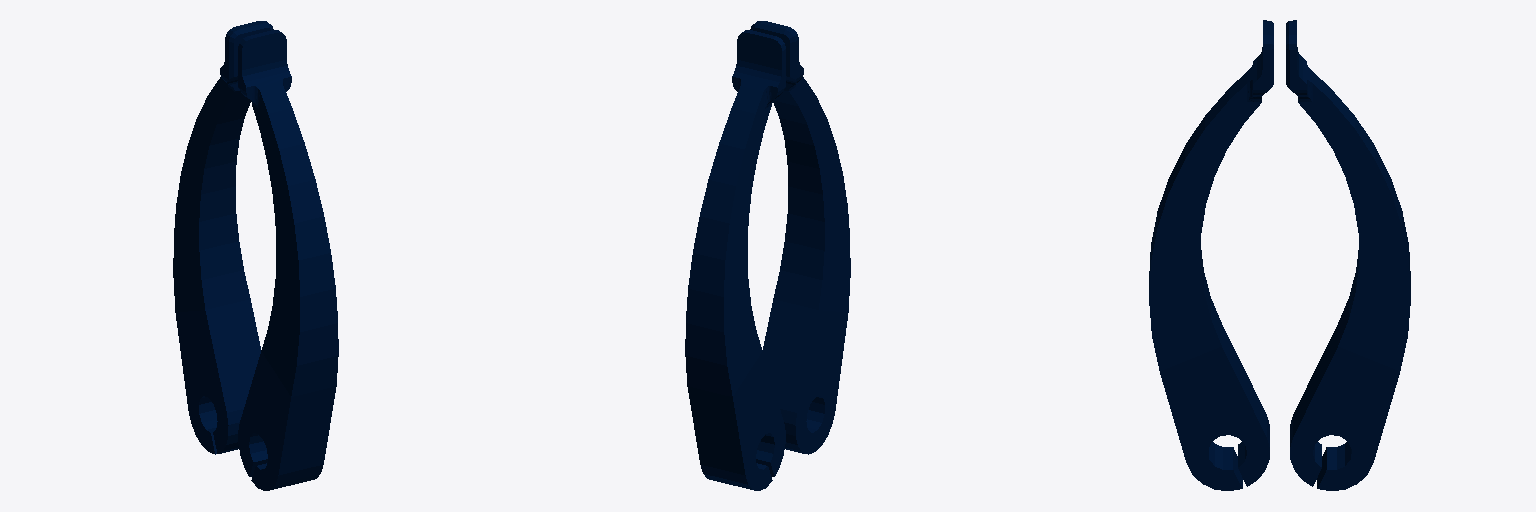
URDF robot description (hdt_michigan):
<?xml version="1.0" ?>
<!-- =================================================================================== -->
<!-- |    This document was autogenerated by xacro from hdt_michigan.xacro             | -->
<!-- |    EDITING THIS FILE BY HAND IS NOT RECOMMENDED                                 | -->
<!-- =================================================================================== -->
<robot name="hdt_michigan">
  <!-- materials -->
  <material name="black">
    <color rgba="0.0 0.0 0.0 1.0"/>
  </material>
  <material name="grey">
    <color rgba="0.23529411764705882 0.23529411764705882 0.23529411764705882 1.0"/>
  </material>
  <material name="orange">
    <color rgba="1.0 0.5490196078431373 0.0 1.0"/>
  </material>
  <material name="maroon">
    <color rgba="0.5019607843137255 0.0 0.0 1.0"/>
  </material>
  <material name="white">
    <color rgba="1.0 1.0 1.0 1.0"/>
  </material>
  <material name="blue">
    <color rgba="0.01568627450980392 0.11764705882352941 0.25882352941176473 1.0"/>
  </material>
  <material name="maize">
    <color rgba="1.0 0.7803921568627451 0.17254901960784313 1.0"/>
  </material>
  <!-- mounting plate -->
  <gazebo reference="hdt_michigan_root">
    <selfCollide>true</selfCollide>
    <kinematic>1</kinematic>
  </gazebo>
  <gazebo reference="drive57">
    <material>Gazebo/FlatBlack</material>
    <selfCollide>true</selfCollide>
    <kinematic>1</kinematic>
  </gazebo>
  <gazebo reference="torso">
    <material>Gazebo/FlatBlack</material>
    <selfCollide>true</selfCollide>
    <kinematic>1</kinematic>
  </gazebo>
  <gazebo reference="drive42">
    <material>Gazebo/FlatBlack</material>
    <selfCollide>true</selfCollide>
    <kinematic>1</kinematic>
  </gazebo>
  <gazebo reference="leftshoulder">
    <material>Gazebo/FlatBlack</material>
    <selfCollide>true</selfCollide>
    <kinematic>1</kinematic>
  </gazebo>
  <gazebo reference="lefttube">
    <material>Gazebo/FlatBlack</material>
    <selfCollide>true</selfCollide>
    <kinematic>1</kinematic>
  </gazebo>
  <gazebo reference="leftforearm">
    <material>Gazebo/FlatBlack</material>
    <selfCollide>true</selfCollide>
    <kinematic>1</kinematic>
  </gazebo>
  <gazebo reference="drive46">
    <material>Gazebo/FlatBlack</material>
    <selfCollide>true</selfCollide>
    <kinematic>1</kinematic>
  </gazebo>
  <gazebo reference="leftwrist">
    <material>Gazebo/FlatBlack</material>
    <selfCollide>true</selfCollide>
    <kinematic>1</kinematic>
  </gazebo>
  <gazebo reference="drive50">
    <material>Gazebo/FlatBlack</material>
    <selfCollide>true</selfCollide>
    <kinematic>1</kinematic>
  </gazebo>
  <gazebo reference="leftgripper2_link">
    <material>Gazebo/FlatBlack</material>
    <selfCollide>true</selfCollide>
    <kinematic>1</kinematic>
    <maxContacts>1</maxContacts>
  </gazebo>
  <gazebo reference="leftgripper_link">
    <material>Gazebo/FlatBlack</material>
    <selfCollide>true</selfCollide>
    <kinematic>1</kinematic>
    <maxContacts>1</maxContacts>
  </gazebo>
  <gazebo reference="drive2">
    <material>Gazebo/Grey</material>
    <selfCollide>true</selfCollide>
    <kinematic>1</kinematic>
  </gazebo>
  <gazebo reference="rightshoulder">
    <material>Gazebo/FlatBlack</material>
    <selfCollide>true</selfCollide>
    <kinematic>1</kinematic>
  </gazebo>
  <gazebo reference="righttube">
    <material>Gazebo/Grey</material>
    <selfCollide>true</selfCollide>
    <kinematic>1</kinematic>
  </gazebo>
  <gazebo reference="rightforearm">
    <material>Gazebo/FlatBlack</material>
    <selfCollide>true</selfCollide>
    <kinematic>1</kinematic>
  </gazebo>
  <gazebo reference="drive6">
    <material>Gazebo/Grey</material>
    <selfCollide>true</selfCollide>
    <kinematic>1</kinematic>
  </gazebo>
  <gazebo reference="rightwrist">
    <material>Gazebo/FlatBlack</material>
    <selfCollide>true</selfCollide>
    <kinematic>1</kinematic>
  </gazebo>
  <gazebo reference="drive10">
    <material>Gazebo/Grey</material>
    <selfCollide>true</selfCollide>
    <kinematic>1</kinematic>
  </gazebo>
  <gazebo reference="rightgripper2_link">
    <material>Gazebo/Grey</material>
    <selfCollide>true</selfCollide>
    <kinematic>1</kinematic>
    <maxContacts>1</maxContacts>
  </gazebo>
  <gazebo reference="rightgripper_link">
    <material>Gazebo/Grey</material>
    <selfCollide>true</selfCollide>
    <kinematic>1</kinematic>
    <maxContacts>1</maxContacts>
  </gazebo>
  <gazebo reference="right_tool_joint">
    <preserveFixedJoint>true</preserveFixedJoint>
  </gazebo>
  <gazebo reference="left_tool_joint">
    <preserveFixedJoint>true</preserveFixedJoint>
  </gazebo>
  <!-- segment 0 -->
  <link name="root"/>
  <joint name="eef_left" type="fixed">
    <origin rpy="0 0 0" xyz="0 0 0"/>
    <parent link="root"/>
    <child link="end_effector_left"/>
  </joint>
  <link name="end_effector_left">
  </link>
  <!-- Left Pincers -->
  <joint name="leftgripper" type="revolute">
    <hdt id="50a" inertia="0.075" kmax="150" kmin="75"/>
    <axis xyz="0 0 1"/>
    <limit effort="35.0" lower="-0.1166" upper="1" velocity="0.5"/>
    <origin rpy="1.5707963267948966 -0.42 -1.5707963267948966" xyz="0 0.0135 0.068553"/>
    <parent link="end_effector_left"/>
    <child link="leftgripper_link"/>
    <dynamics damping="0.01" friction="0"/>
  </joint>
  <transmission name="leftgripper_transmissions">
    <type>transmission_interface/SimpleTransmission</type>
    <joint name="leftgripper">
      <hardwareInterface>hardware_interface/PositionJointInterface</hardwareInterface>
    </joint>
    <actuator name="leftgripper_motor">
      <mechanicalReduction>1</mechanicalReduction>
    </actuator>
  </transmission>
  <link name="leftgripper_link">
    <visual>
      <origin rpy="0 0 0" xyz="0 0 0"/>
      <geometry>
        <mesh filename="package://hdt_michigan_description/meshes/PINCER_FINGER.STL"/>
      </geometry>
      <material name="blue"/>
    </visual>
    <inertial>
      <origin rpy="0 0 0" xyz="0.034 0.055 0.007"/>
      <mass value="0.06821764"/>
      <inertia ixx="0.00007499" ixy="0" ixz="0" iyy="0.00002842" iyz="0" izz="0.00010118"/>
    </inertial>
  </link>
  <!-- Left EE 2 -->
  <!-- THIS IS THE SECOND PINCER, NEEDS TO MOVE EQUAL BUT OPPOSITE AS PINCER 1 -->
  <joint name="leftgripper2" type="revolute">
    <hdt id="50b" inertia="0.075" kmax="150" kmin="75"/>
    <axis xyz="0 0 1"/>
    <origin rpy="1.5707963267948966 -0.42 1.5707963267948966" xyz="0 -0.0135 0.068553"/>
    <parent link="end_effector_left"/>
    <child link="leftgripper2_link"/>
    <calibration rising="0.0"/>
    <dynamics damping="0.01" friction="0.01"/>
    <limit effort="35.0" lower="-0.1166" upper="1" velocity="0.5"/>
  </joint>
  <transmission name="leftgripper2_transmissions">
    <type>transmission_interface/SimpleTransmission</type>
    <joint name="leftgripper2">
      <hardwareInterface>hardware_interface/PositionJointInterface</hardwareInterface>
    </joint>
    <actuator name="leftgripper2_motor">
      <mechanicalReduction>1</mechanicalReduction>
    </actuator>
  </transmission>
  <link name="leftgripper2_link">
    <visual>
      <origin rpy="0 0 0" xyz="0 0 0"/>
      <geometry>
        <mesh filename="package://hdt_michigan_description/meshes/PINCER_FINGER.STL"/>
      </geometry>
      <material name="blue"/>
    </visual>
    <inertial>
      <origin rpy="0 0 0" xyz="0.034 0.055 0.007"/>
      <mass value="0.06821764"/>
      <inertia ixx="0.00007499" ixy="0" ixz="0" iyy="0.00002842" iyz="0" izz="0.00010118"/>
    </inertial>
  </link>
  
  <link name="left_tool">
    <inertial>
      <origin rpy="0 0 0" xyz="0 0 0"/>
      <mass value="0.001"/>
      <inertia ixx="0" ixy="0" ixz="0" iyy="0" iyz="0" izz="0"/>
    </inertial>
  </link>
  <joint name="left_tool_joint" type="fixed">
    <parent link="end_effector_left"/>
    <child link="left_tool"/>
    <origin rpy="0 0 0" xyz="0.0 0.0 0.181"/>
  </joint>
  

  <gazebo>
    <plugin filename="libgazebo_ros_control.so" name="gazebo_ros_control">
      <robotNamespace>hdt_michigan</robotNamespace>
      <legacyModeNS>false</legacyModeNS>
    </plugin>
  </gazebo>
  <gazebo>
    <plugin filename="libgazebo_ros_moveit_planning_scene.so" name="gazebo_ros_moveit_planning_scene">
      <robotName>hdt_michigan</robotName>
      <robotNamespace>hdt_michigan</robotNamespace>
      <!--  This must be the same as the root frame of the robot you're using -->
      <frameId>hdt_michigan_root</frameId>
      <excludedModels>collision_sphere</excludedModels>
      <scalePrimitivesFactor>1.1</scalePrimitivesFactor>
    </plugin>
  </gazebo>
  <link name="world"/>
  <joint name="world_joint" type="fixed">
    <parent link="world"/>
    <child link="root"/>
    <origin rpy="0.0 0.0 0.0" xyz="0.0 0.0 0.0"/>
  </joint>
</robot>

--- What the picture shows (computed from the rendered views, not written in the file) ---
Views: 3 orthographic renders of the robot side by side, from view 1: azimuth 30°, elevation 25°; view 2: azimuth 150°, elevation 25°; view 3: azimuth 270°, elevation 25°.
Robot: hdt_michigan — 6 links, 5 joints (2 revolute, 3 fixed); root link world; default pose: all joints at 0.
Links seen in each view (by area): view 1: leftgripper2_link, leftgripper_link; view 2: leftgripper_link, leftgripper2_link; view 3: leftgripper_link, leftgripper2_link.
Link boxes in pixels (x1=…): leftgripper2_link: x1=238, y1=30, x2=338, y2=490; leftgripper_link: x1=173, y1=21, x2=273, y2=454; leftgripper_link: x1=685, y1=30, x2=785, y2=490; leftgripper2_link: x1=750, y1=21, x2=850, y2=454; leftgripper_link: x1=1286, y1=20, x2=1410, y2=490; leftgripper2_link: x1=1149, y1=20, x2=1273, y2=490.
Size in the robot's own frame: 0.014 by 0.0675 by 0.1284 metres.
2 mesh visuals loaded from 1 distinct referenced files (1 binary STL).
